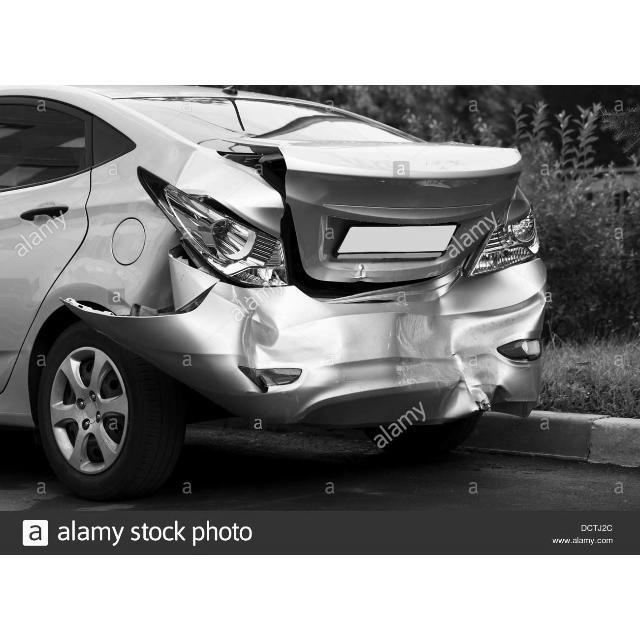rear-bumper-dent: (103, 274, 559, 442)
